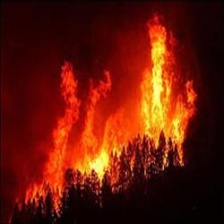fire: (46, 64, 128, 193), (142, 26, 198, 169)
